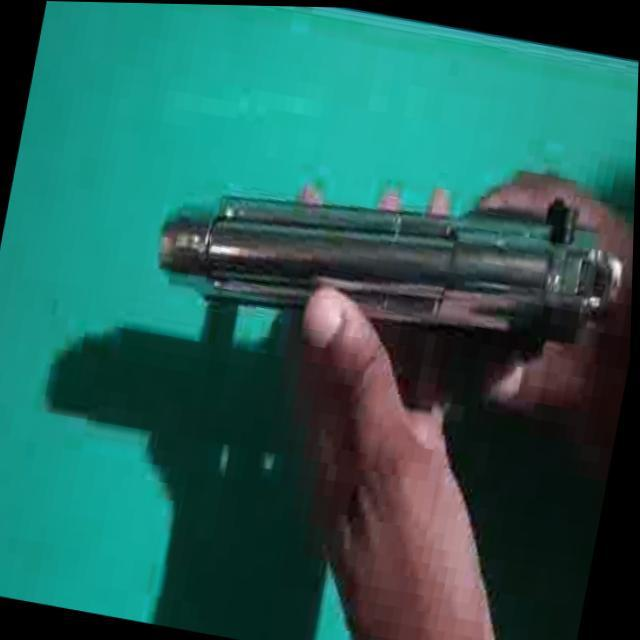weapon: (147, 123, 638, 375)
